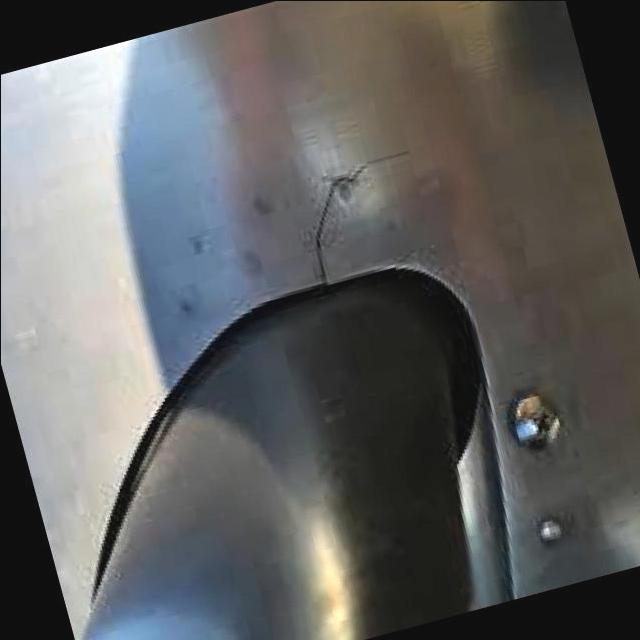defect: (313, 146, 416, 287)
